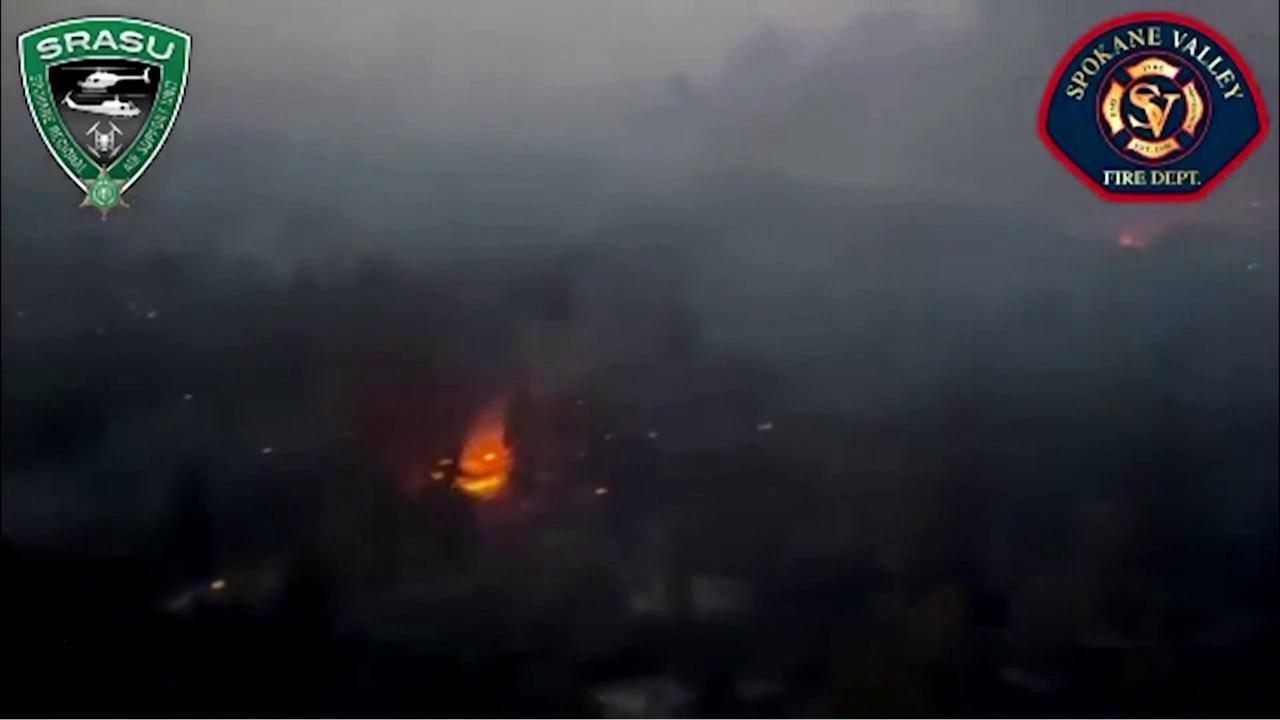fire: (413, 376, 521, 503), (1108, 226, 1153, 251), (590, 482, 612, 501), (206, 576, 228, 594)
smoke: (2, 0, 1280, 719)
